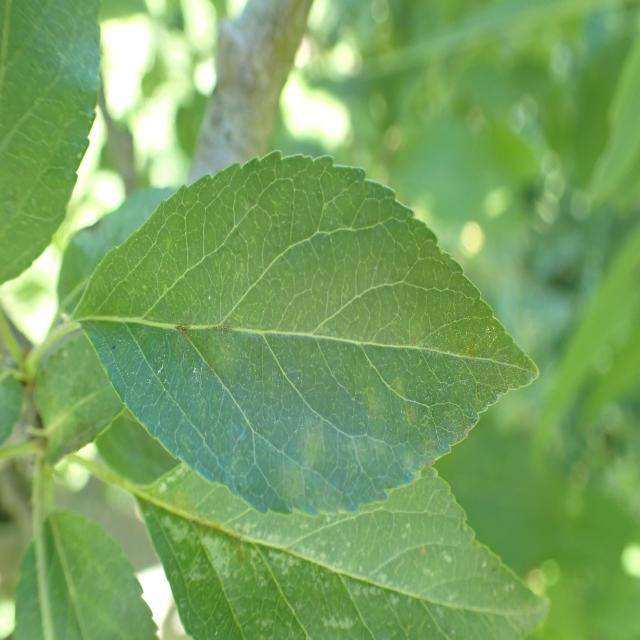scab: (104, 237, 523, 493), (167, 489, 374, 611)
